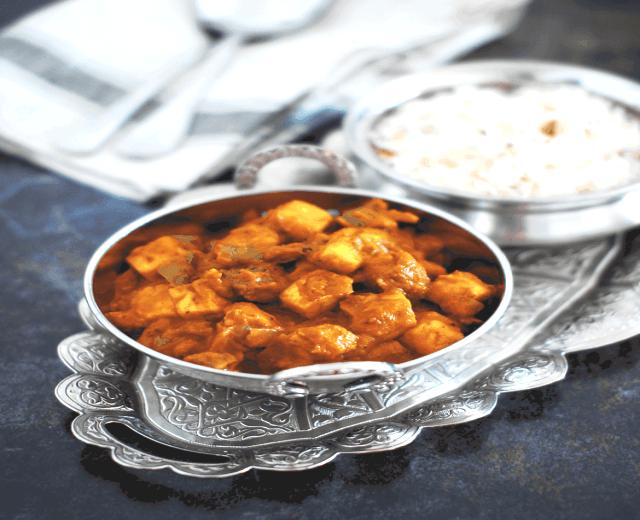kadai paneer: (80, 184, 630, 514), (6, 10, 199, 512), (411, 59, 640, 237), (2, 164, 150, 270), (469, 0, 640, 82), (148, 369, 303, 441)
